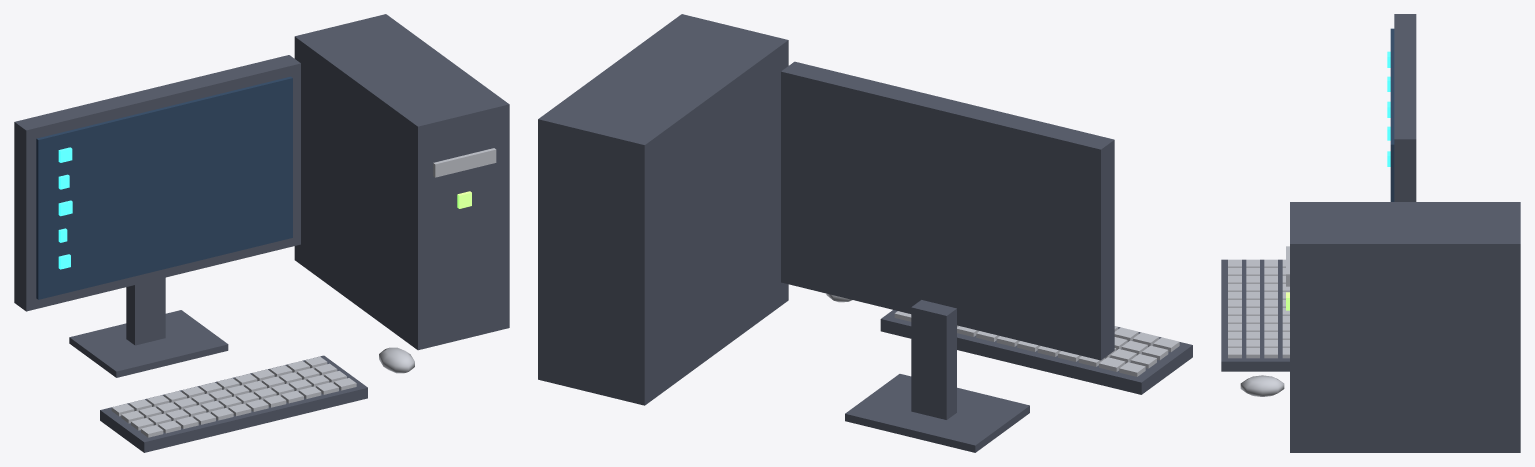
File: computer.glb
3 renders of one model, left to right at view 1: azimuth 30°, elevation 25°; view 2: azimuth 150°, elevation 25°; view 3: azimuth 270°, elevation 25°, orthographic. The views are drawn at different scales.
Parts seen in each view (by area): view 1: Tower, Screen, Monitor, Keys, Monitor stand, Keyboard, Tower drive, Screen text, Mouse; view 2: Tower, Monitor, Monitor stand, Keyboard, Keys; view 3: Tower, Keys, Monitor, Keyboard, Screen, Mouse, Screen text.
Boxes of the visible parts, left/top/right/bottom form: Tower: left=294, top=14, right=509, bottom=350; Screen: left=36, top=76, right=292, bottom=299; Monitor: left=14, top=55, right=300, bottom=311; Keys: left=111, top=356, right=356, bottom=437; Monitor stand: left=69, top=277, right=228, bottom=377; Keyboard: left=100, top=355, right=367, bottom=452; Tower drive: left=433, top=148, right=496, bottom=177; Screen text: left=58, top=147, right=72, bottom=269; Mouse: left=379, top=347, right=414, bottom=373; Tower: left=538, top=14, right=788, bottom=405; Monitor: left=781, top=61, right=1114, bottom=360; Monitor stand: left=845, top=300, right=1029, bottom=452; Keyboard: left=880, top=310, right=1192, bottom=394; Keys: left=894, top=311, right=1179, bottom=376; Tower: left=1290, top=202, right=1520, bottom=452; Keys: left=1228, top=259, right=1289, bottom=358; Monitor: left=1394, top=14, right=1416, bottom=201; Keyboard: left=1221, top=259, right=1289, bottom=371; Screen: left=1390, top=28, right=1394, bottom=201; Mouse: left=1240, top=375, right=1284, bottom=396; Screen text: left=1387, top=51, right=1390, bottom=166.
Size of the model in its own units: 0.84 by 0.49 by 0.545.
